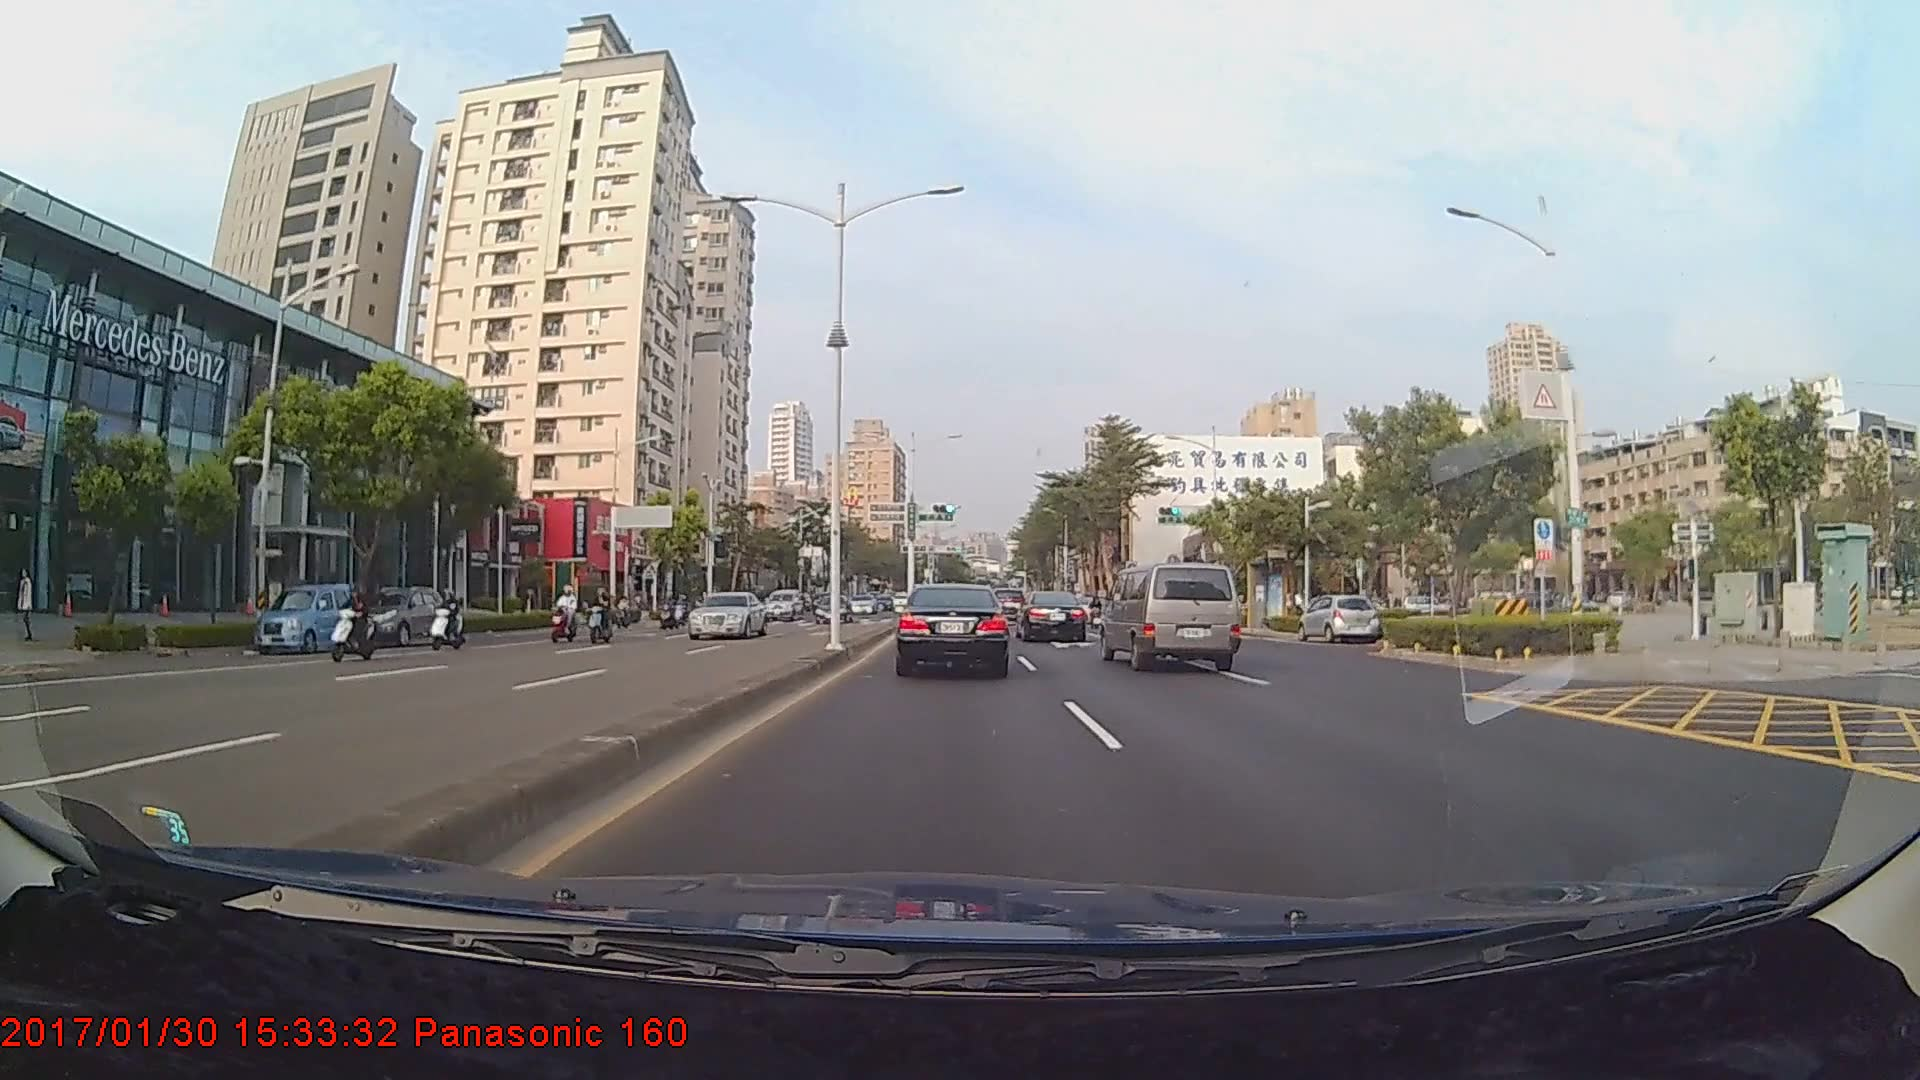pedestrian: (18, 569, 40, 642)
rider: (321, 580, 383, 669), (425, 584, 472, 654), (547, 579, 587, 646), (588, 586, 622, 646), (655, 589, 682, 635)
vehicle: (1101, 561, 1242, 673), (897, 582, 1009, 677), (250, 582, 367, 655), (347, 584, 450, 644), (1298, 594, 1380, 645), (1015, 590, 1089, 644), (686, 590, 766, 638)
